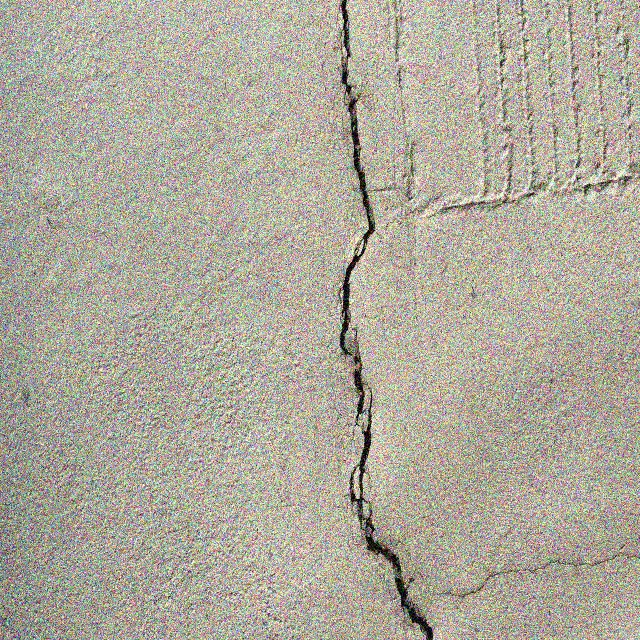SurfaceCrack: (290, 0, 437, 639), (415, 137, 640, 238), (447, 519, 639, 635)
